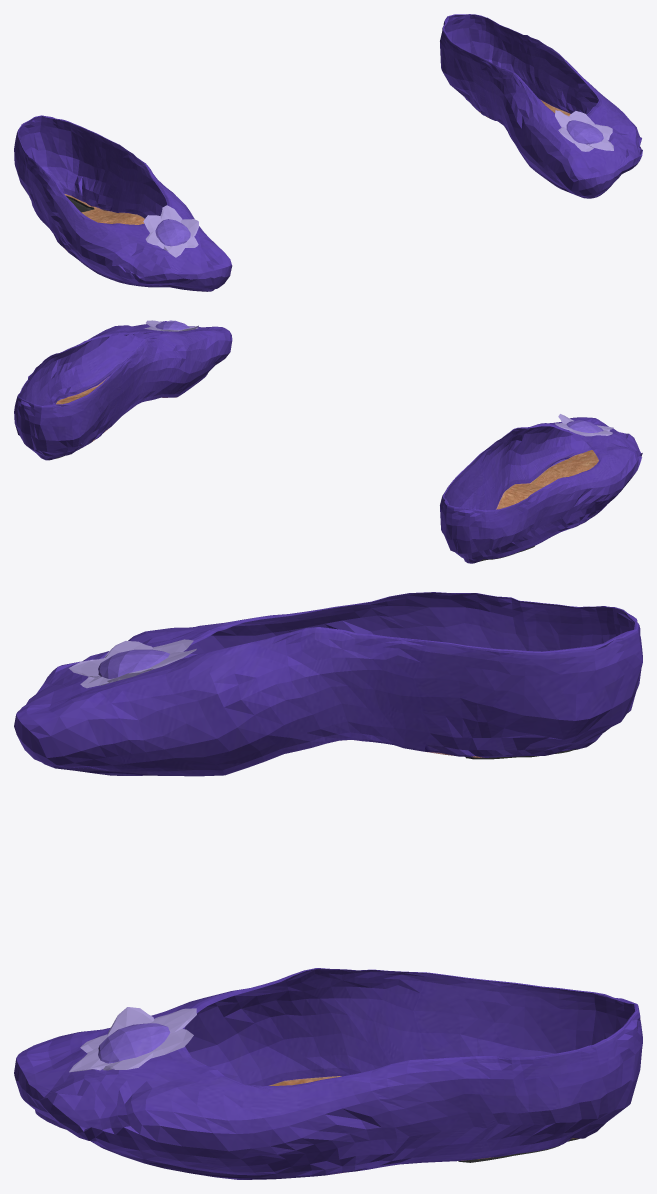
Rendered from mhw_toigo_ballet_flats_with_flowers.glb.
3 renders of one model, top to bottom at view 1: azimuth 30°, elevation 25°; view 2: azimuth 150°, elevation 25°; view 3: azimuth 270°, elevation 25°, orthographic. The views are drawn at different scales.
Visible parts, largest first — view 1: mhw_toigo_ballet_flats_with_flowers; view 2: mhw_toigo_ballet_flats_with_flowers; view 3: mhw_toigo_ballet_flats_with_flowers.
Part boxes in pixels (x1,y1,x2,y2): mhw_toigo_ballet_flats_with_flowers: (14,14,642,291); mhw_toigo_ballet_flats_with_flowers: (14,320,642,563); mhw_toigo_ballet_flats_with_flowers: (14,592,642,1179).
Bounding box in the file's own units: 0.5326 × 0.0746 × 0.2839.
Materials: 1 (1 with a texture image).
